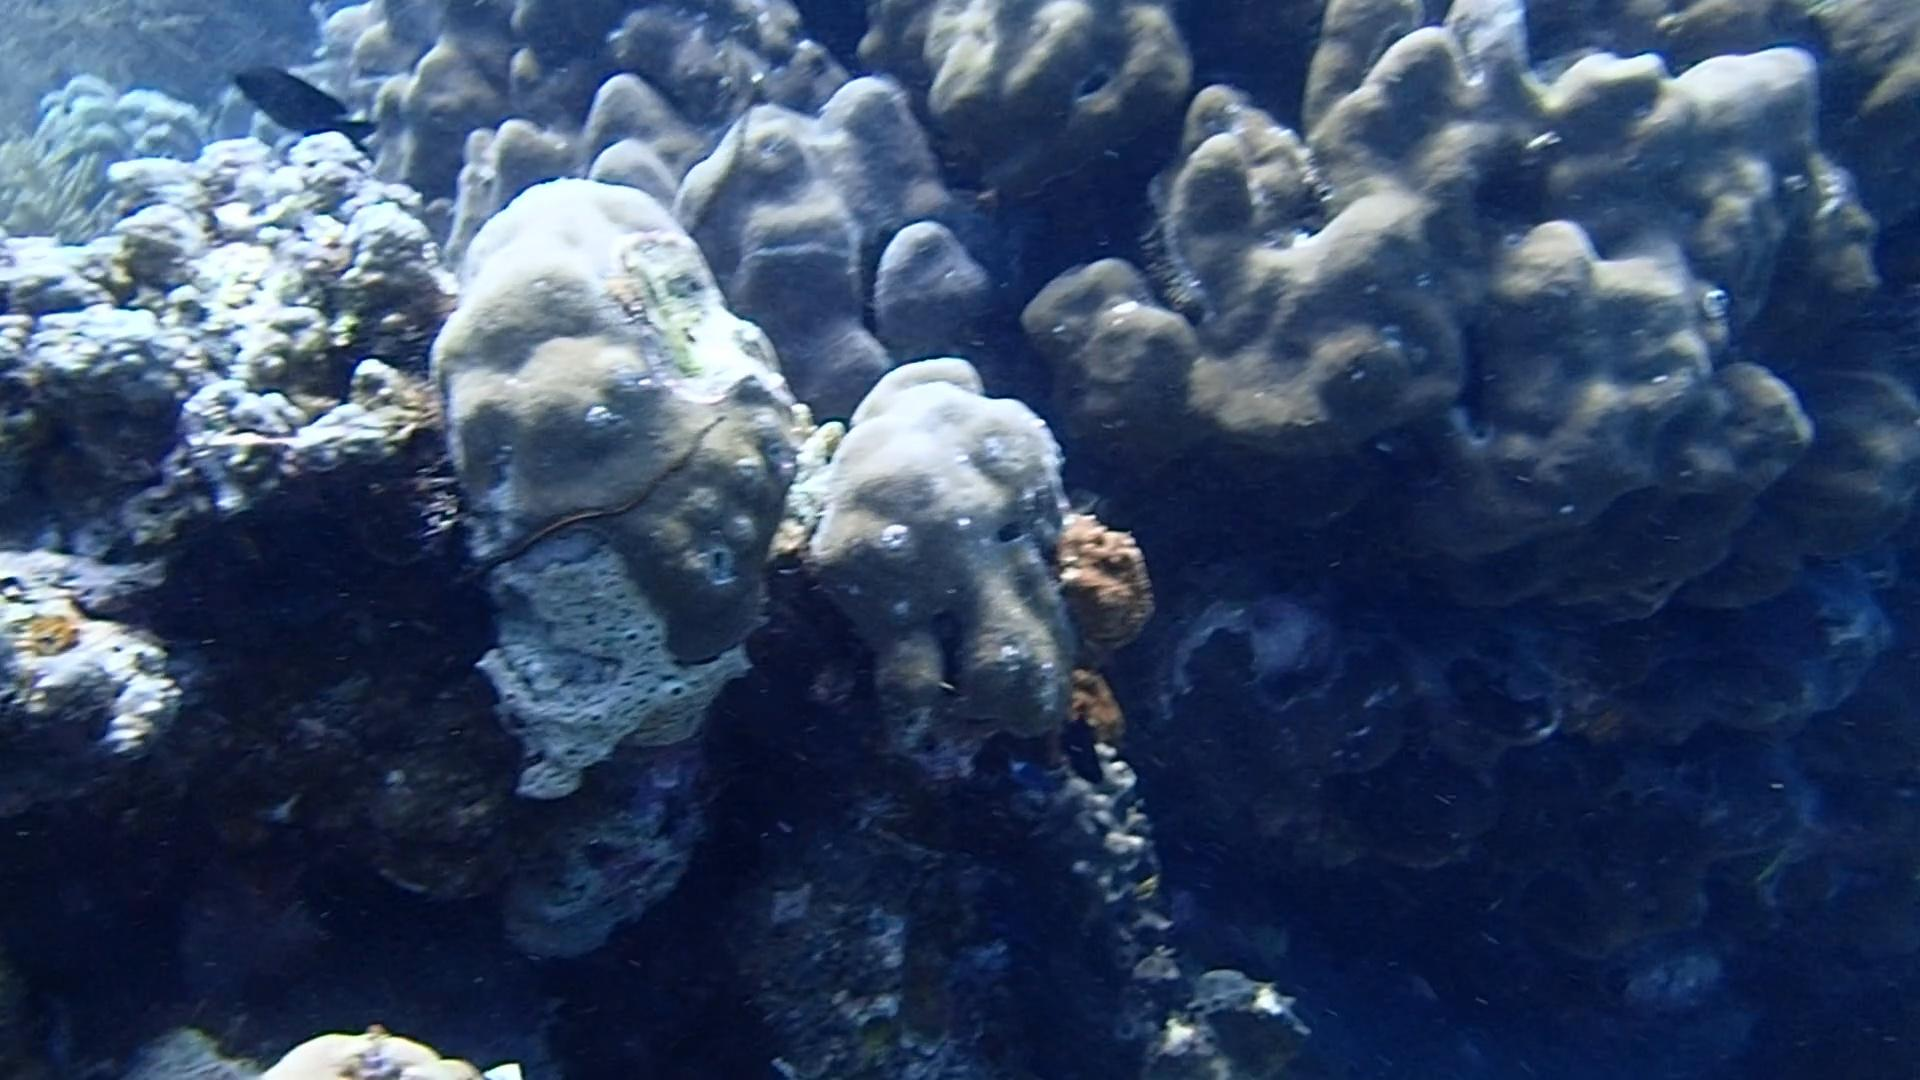Dark Fish: (220, 57, 384, 164), (1040, 698, 1126, 804)
